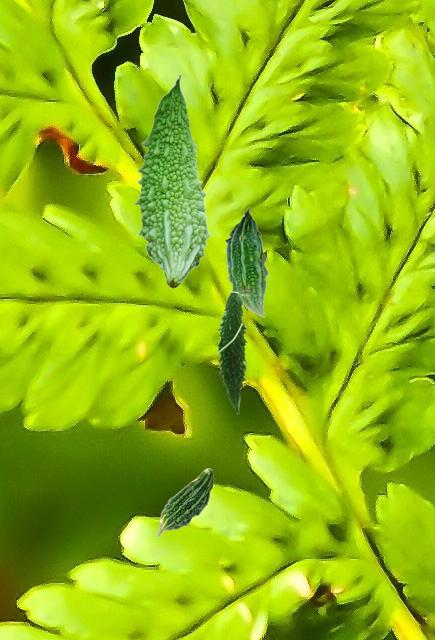ampalaya: (133, 73, 212, 289), (214, 275, 252, 415), (224, 206, 269, 318), (156, 467, 214, 537)
